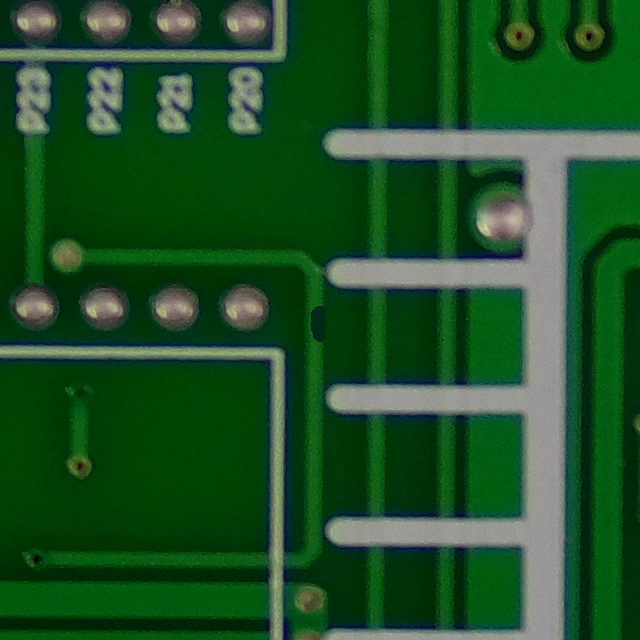mouse_bite: (292, 290, 349, 351)
